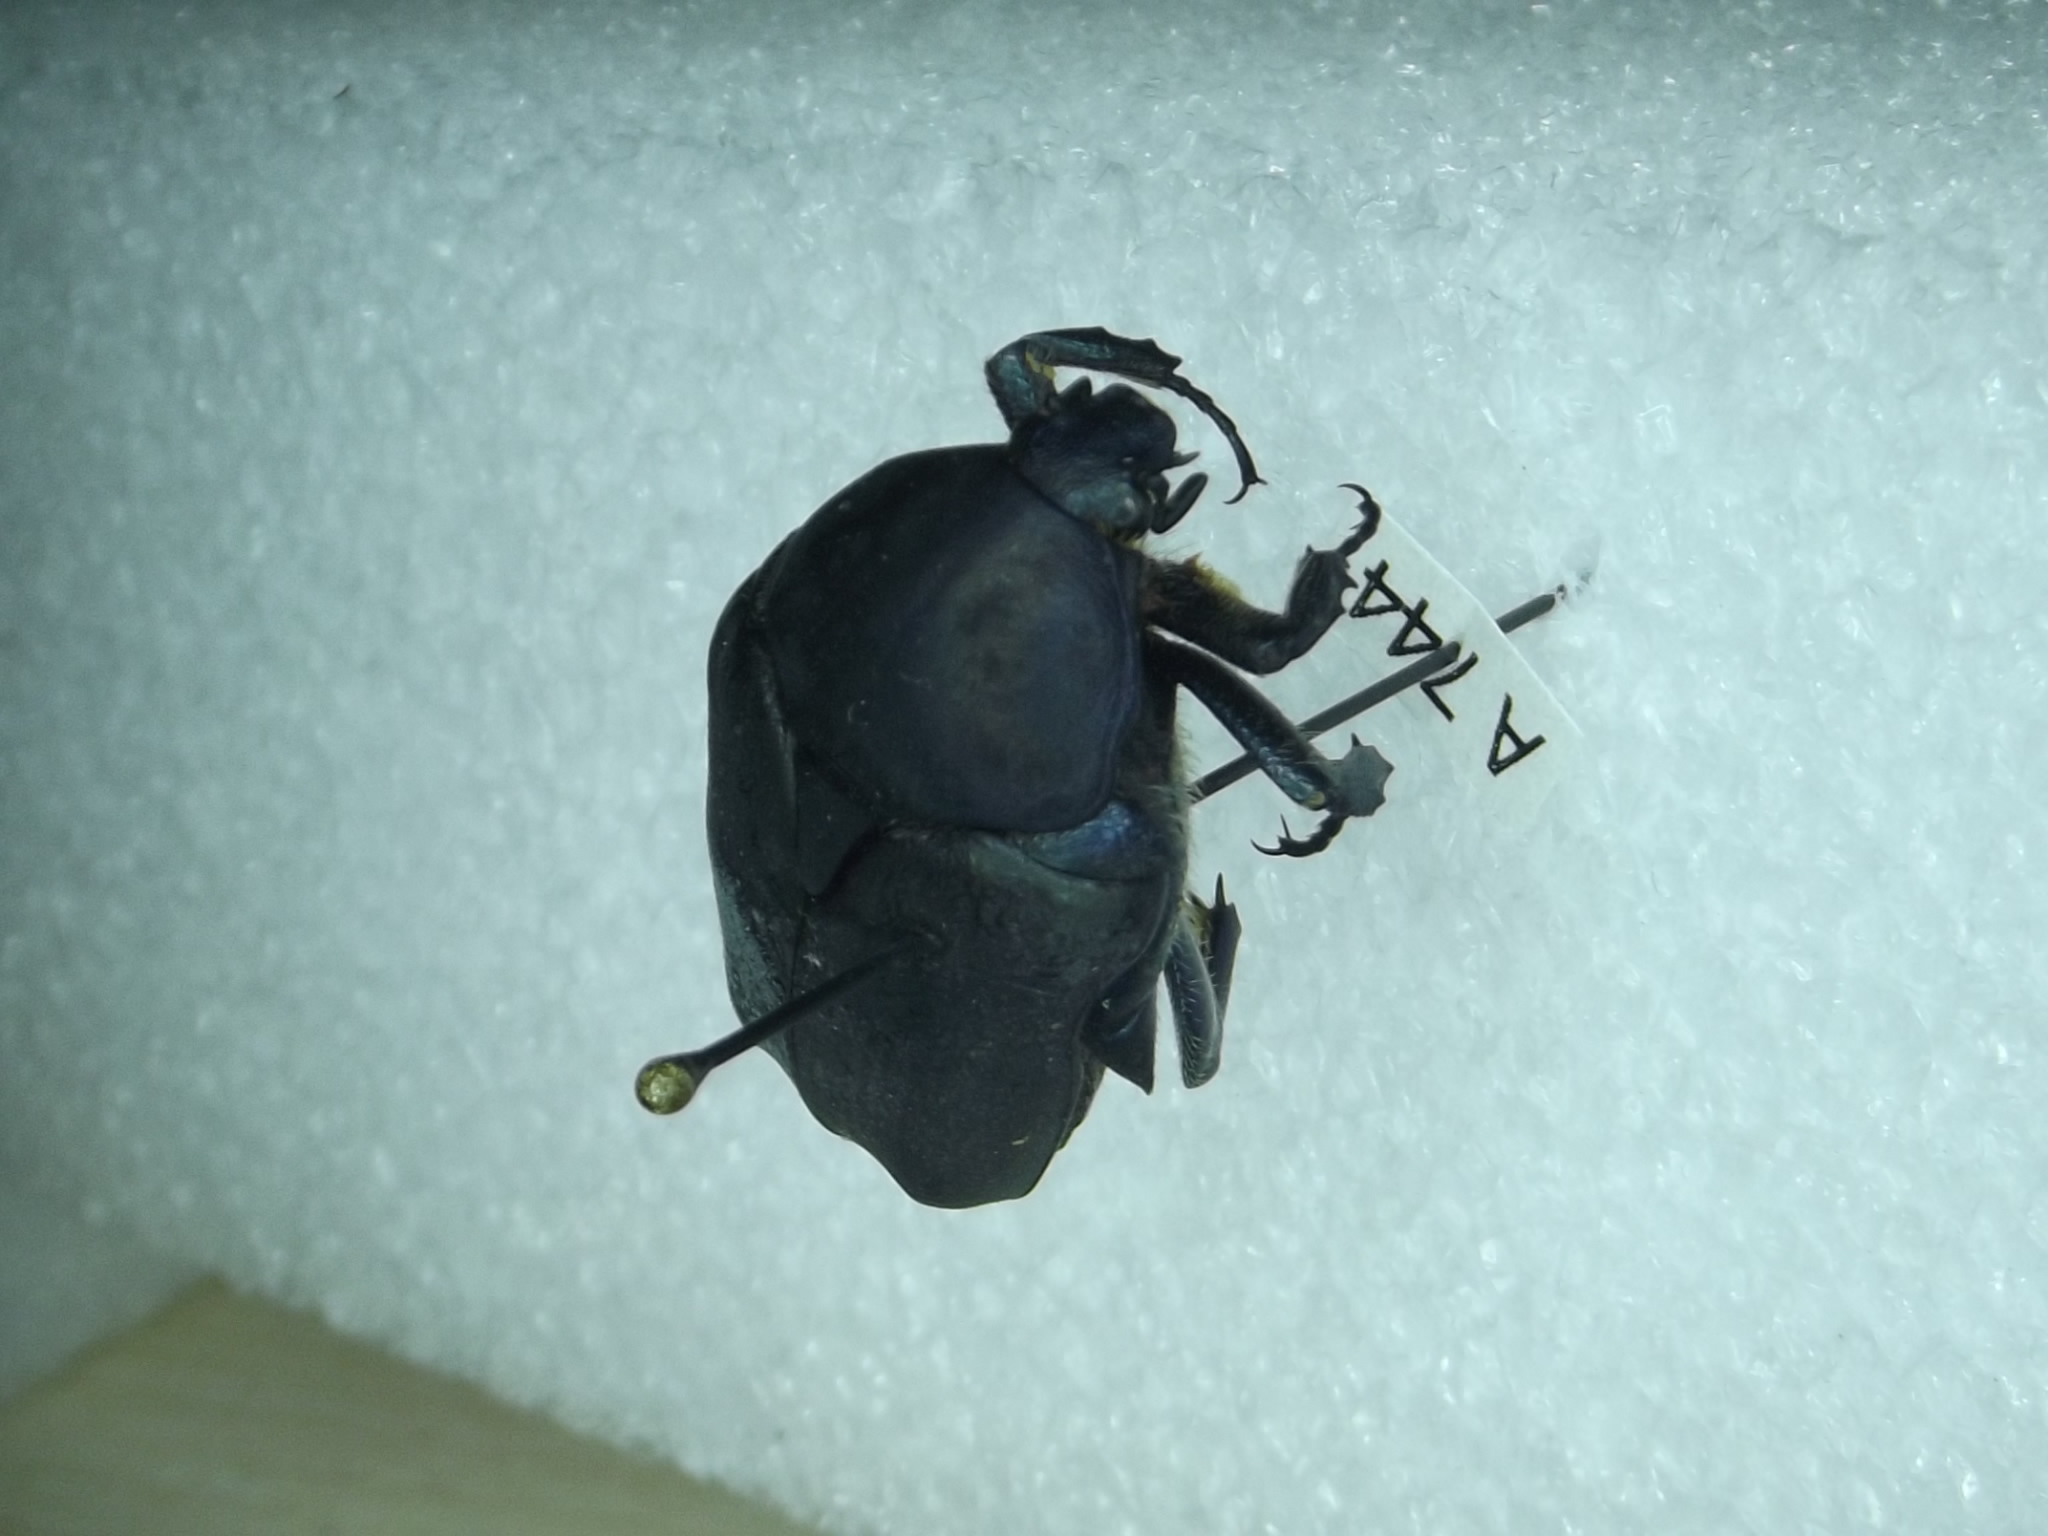Protaetia_afflicta: (710, 298, 1405, 1220)
